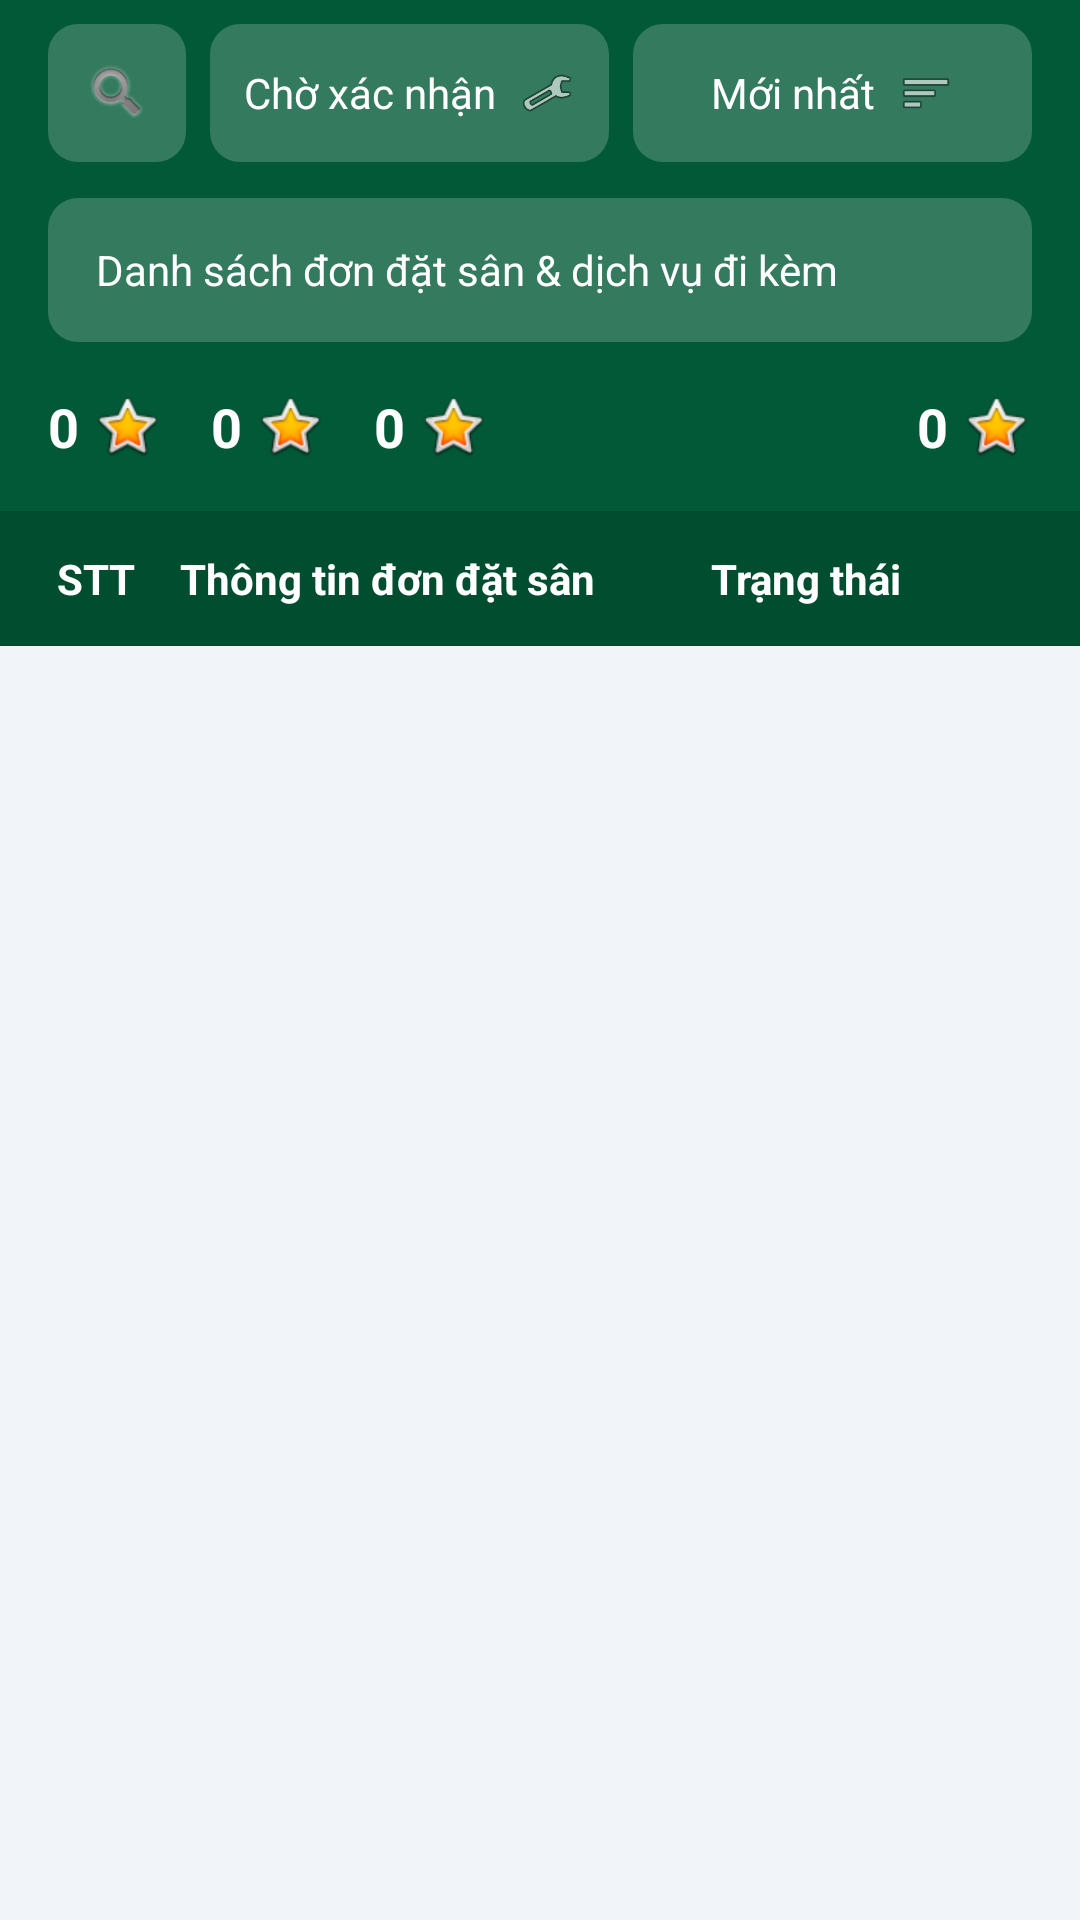

Named icons in this screenshot (1080*1920) and their bounding boxes, [x1, y1, x2, y2]:
manage: [523, 75, 571, 111]
search category: [48, 24, 186, 162]
sort by size: [903, 78, 949, 108]
star on: [99, 398, 157, 455], [262, 398, 320, 455], [425, 398, 483, 455], [968, 398, 1026, 455]
